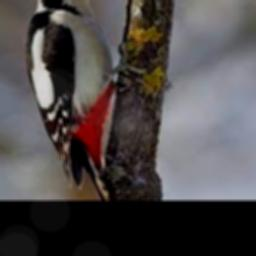Woodpecker: (24, 0, 138, 200)
